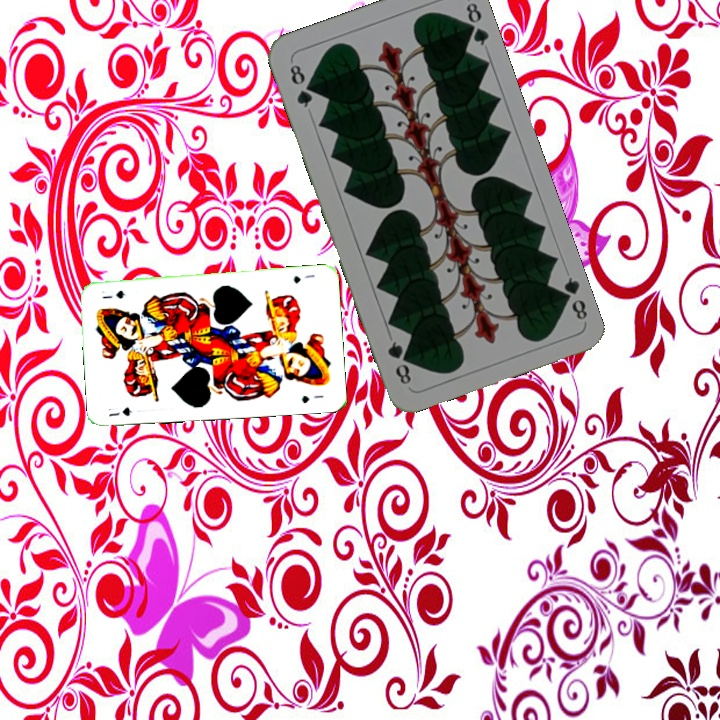G8: (554, 273, 590, 323), (285, 60, 315, 111)
GU: (104, 403, 134, 419), (290, 270, 317, 286)
